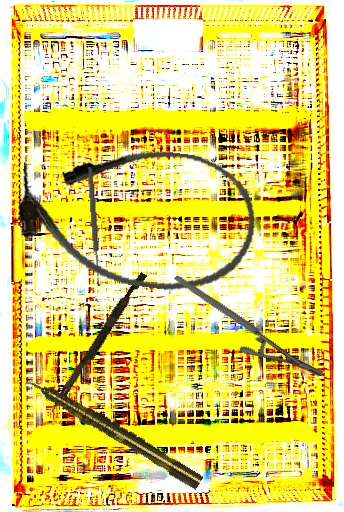Cannula: (9, 132, 264, 301)
Handpiece: (22, 371, 205, 492)
Needle Holder: (173, 240, 325, 411)
Pusher: (48, 269, 148, 417)
Surgical Spoon: (86, 166, 102, 287)
